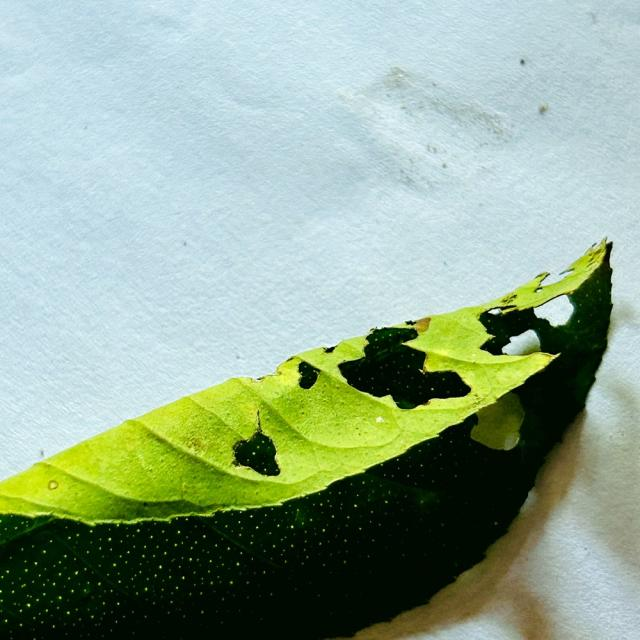Deficiency Leaf: (333, 327, 476, 410), (473, 306, 542, 354), (233, 427, 280, 475), (362, 325, 422, 357), (296, 360, 320, 391)
Lemon: (0, 241, 612, 639)
